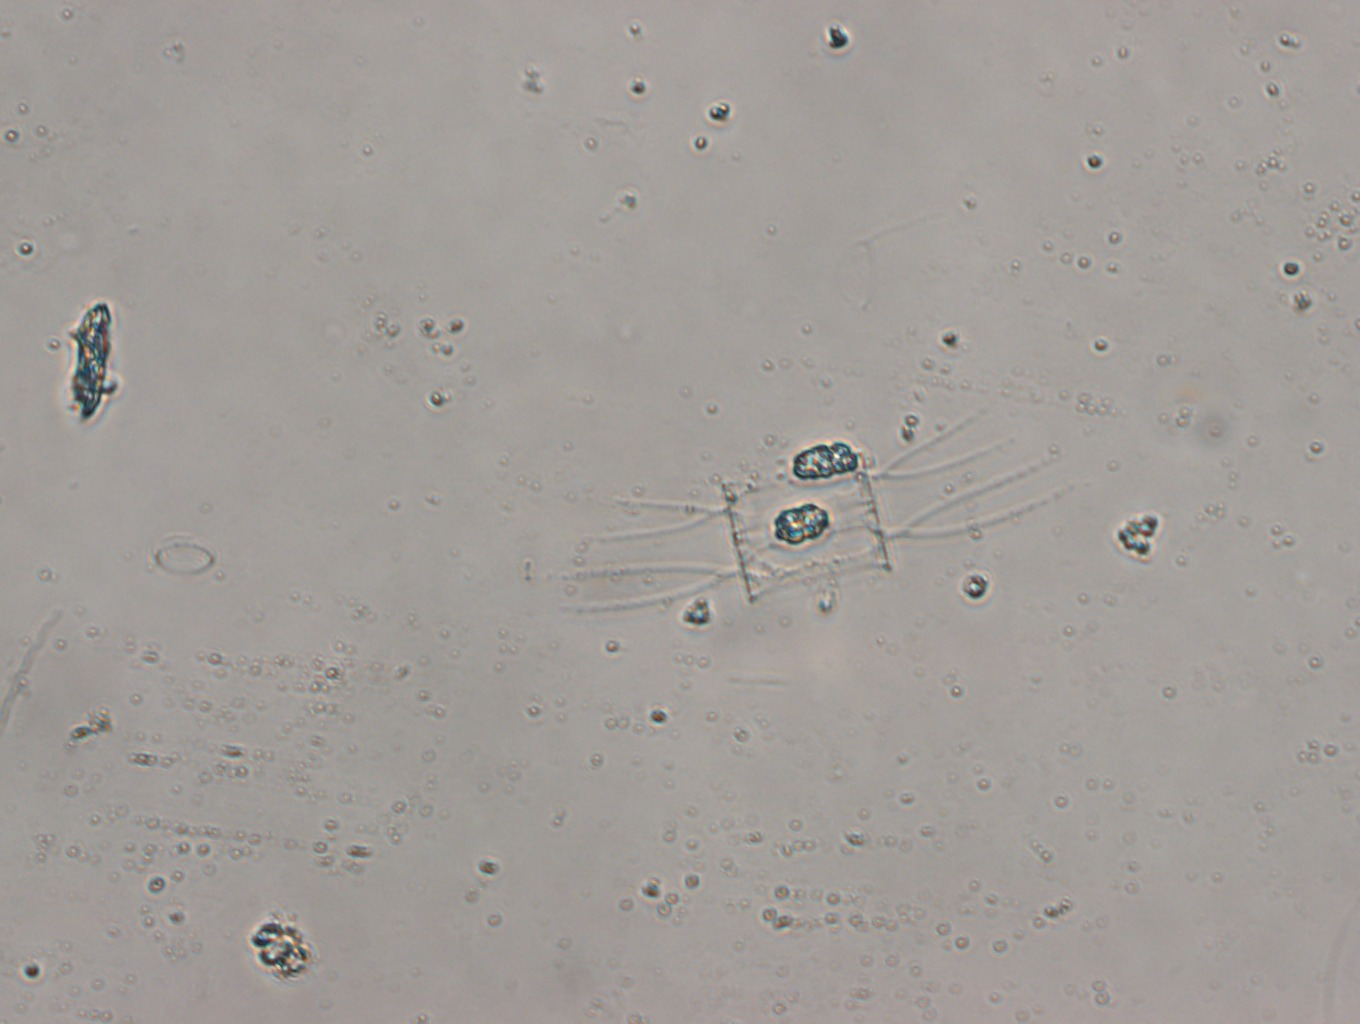chaetoceros: (564, 392, 1064, 614)
